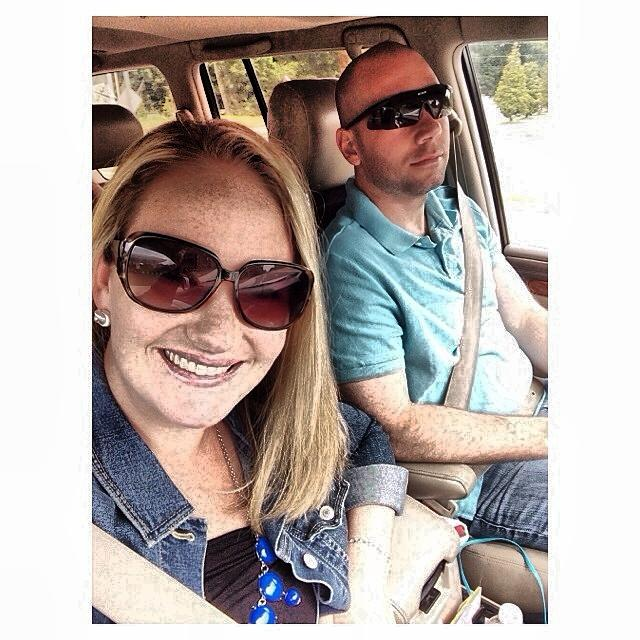seatbelt: (433, 124, 491, 400)
